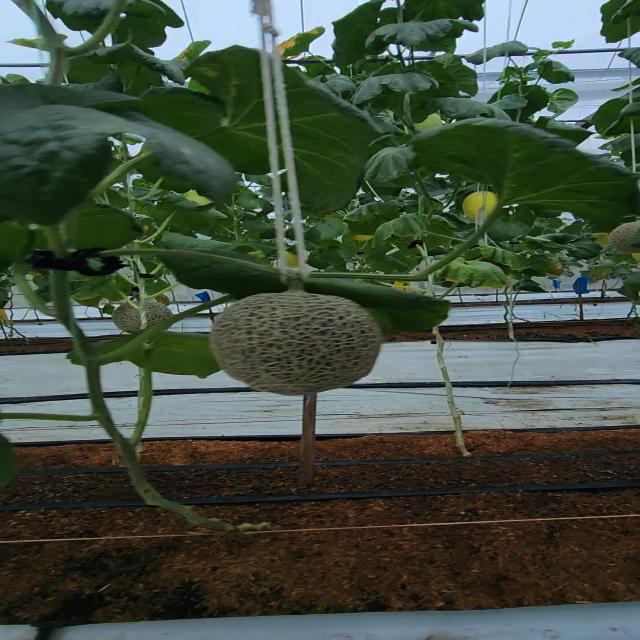Melon: (214, 291, 389, 395), (114, 296, 174, 334)
